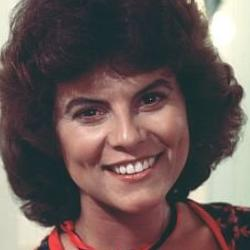face: (4, 3, 237, 222)
